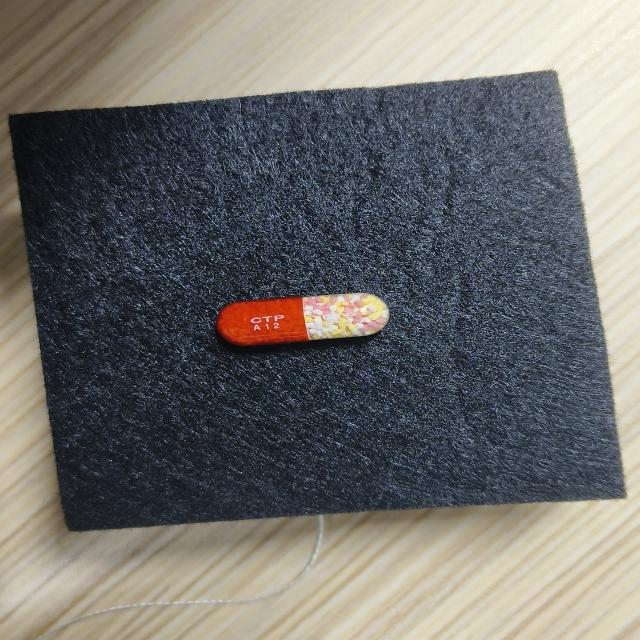Intact Capsule: (216, 293, 390, 345)
